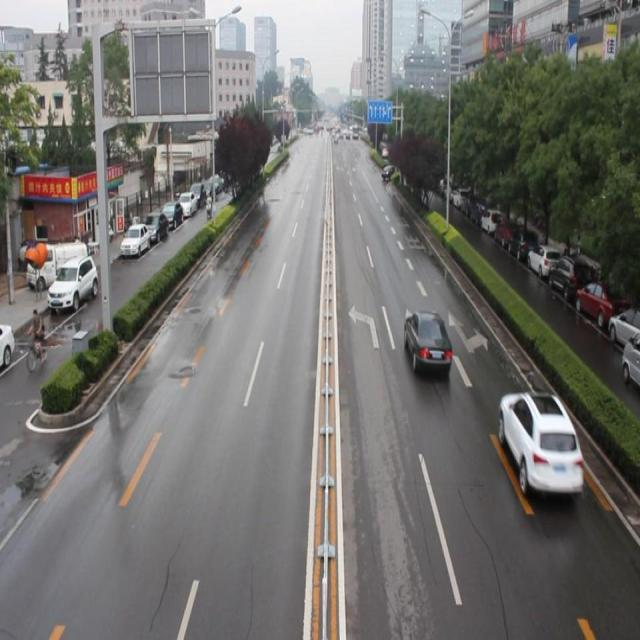car: (496, 390, 585, 500), (402, 310, 452, 376), (380, 163, 396, 181)
